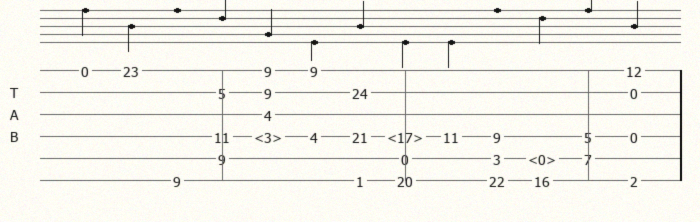0: (81, 63, 93, 77), (401, 151, 413, 165), (630, 85, 642, 99), (630, 129, 642, 143)
1: (356, 173, 368, 187)
11: (214, 129, 234, 143), (443, 129, 463, 143)
12: (626, 63, 646, 77)
16: (534, 173, 554, 187)
2: (630, 173, 642, 187)
20: (397, 173, 417, 187)
21: (352, 129, 372, 143)
22: (489, 173, 509, 187)
23: (123, 63, 143, 77)
24: (352, 85, 372, 99)
3: (493, 151, 505, 165)
4: (264, 107, 276, 121), (310, 129, 322, 143)
5: (218, 85, 230, 99), (584, 129, 596, 143)
7: (584, 151, 596, 165)
9: (173, 173, 185, 187), (218, 151, 230, 165), (264, 85, 276, 99), (264, 63, 276, 77), (310, 63, 322, 77), (493, 129, 505, 143)
harmonic: (387, 129, 427, 143), (254, 129, 286, 143), (528, 151, 560, 165)
